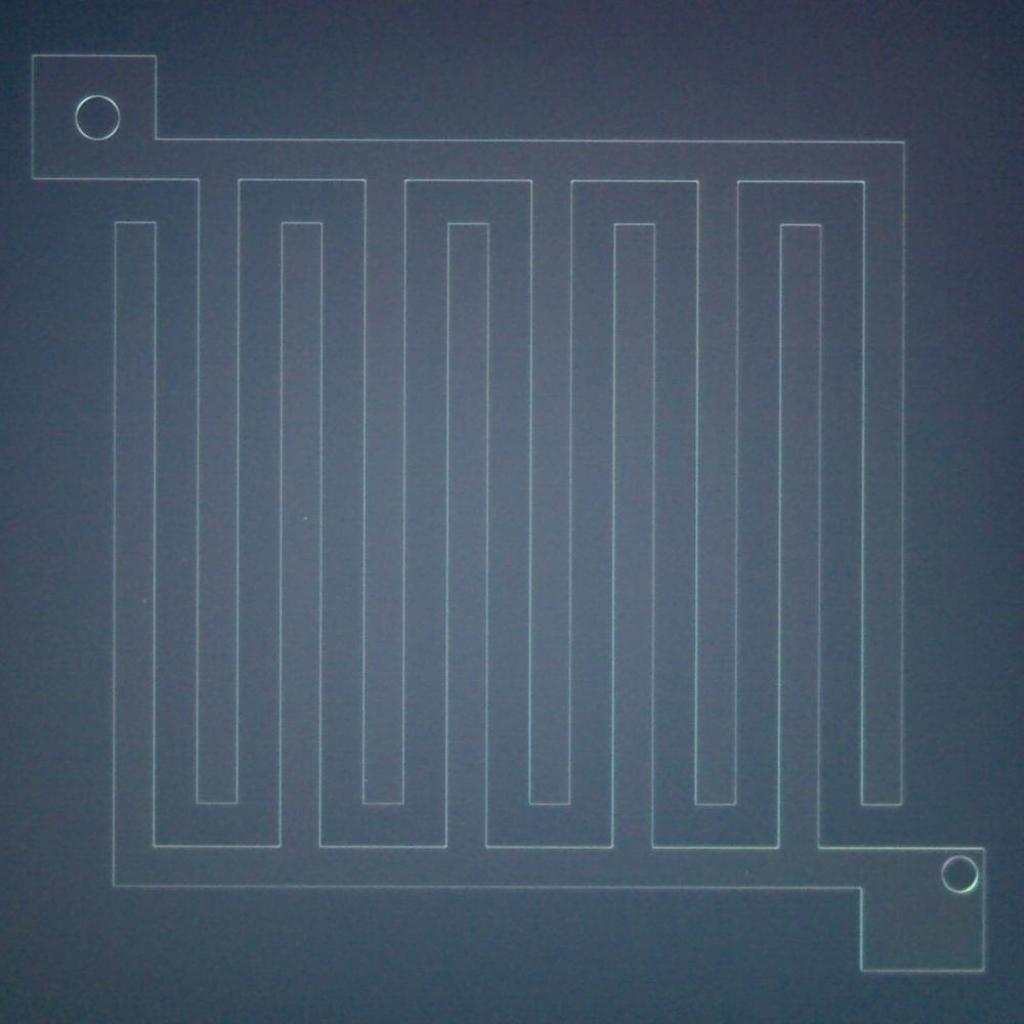dot: (304, 516, 308, 520), (143, 598, 147, 602)
